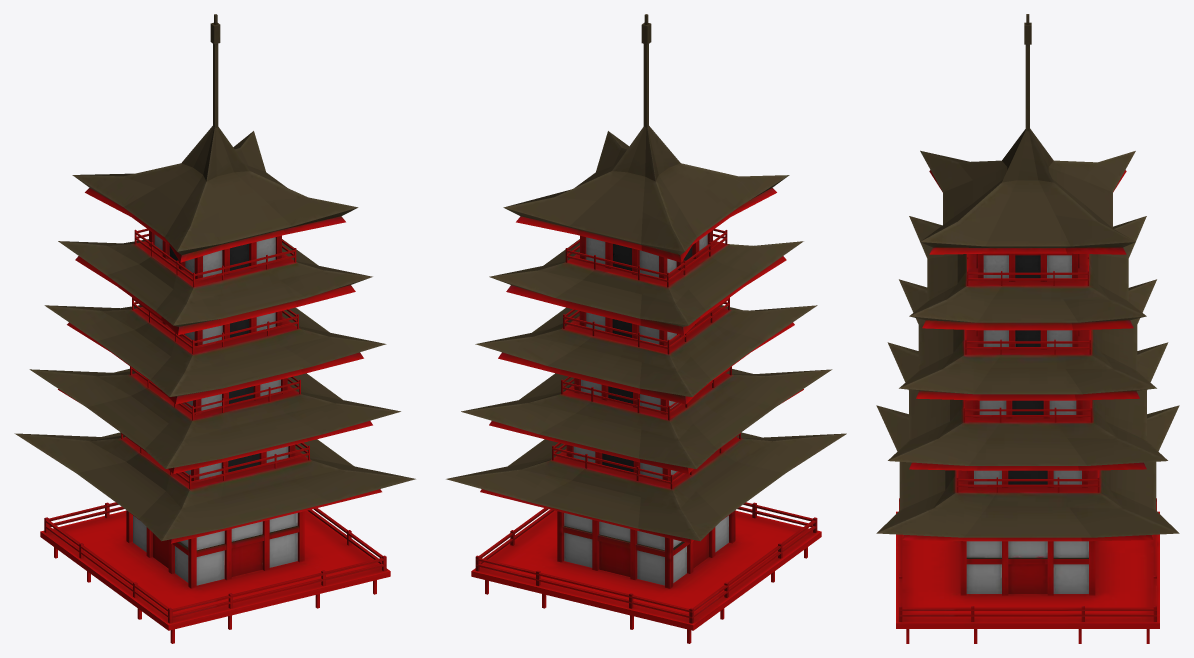
The model's file is pagoda.glb.
3 renders of one model, left to right at view 1: azimuth 30°, elevation 25°; view 2: azimuth 150°, elevation 25°; view 3: azimuth 270°, elevation 25°, orthographic. The views are drawn at different scales.
Parts seen in each view (by area): view 1: Pagoda_mesh; view 2: Pagoda_mesh; view 3: Pagoda_mesh.
Boxes of the visible parts, <box> form: Pagoda_mesh: <box>14,14,415,643</box>; Pagoda_mesh: <box>446,14,846,643</box>; Pagoda_mesh: <box>876,14,1179,643</box>.
Bounding box in the file's own units: 26.41 × 55.5 × 26.41.
Materials: 1 (1 with a texture image).
